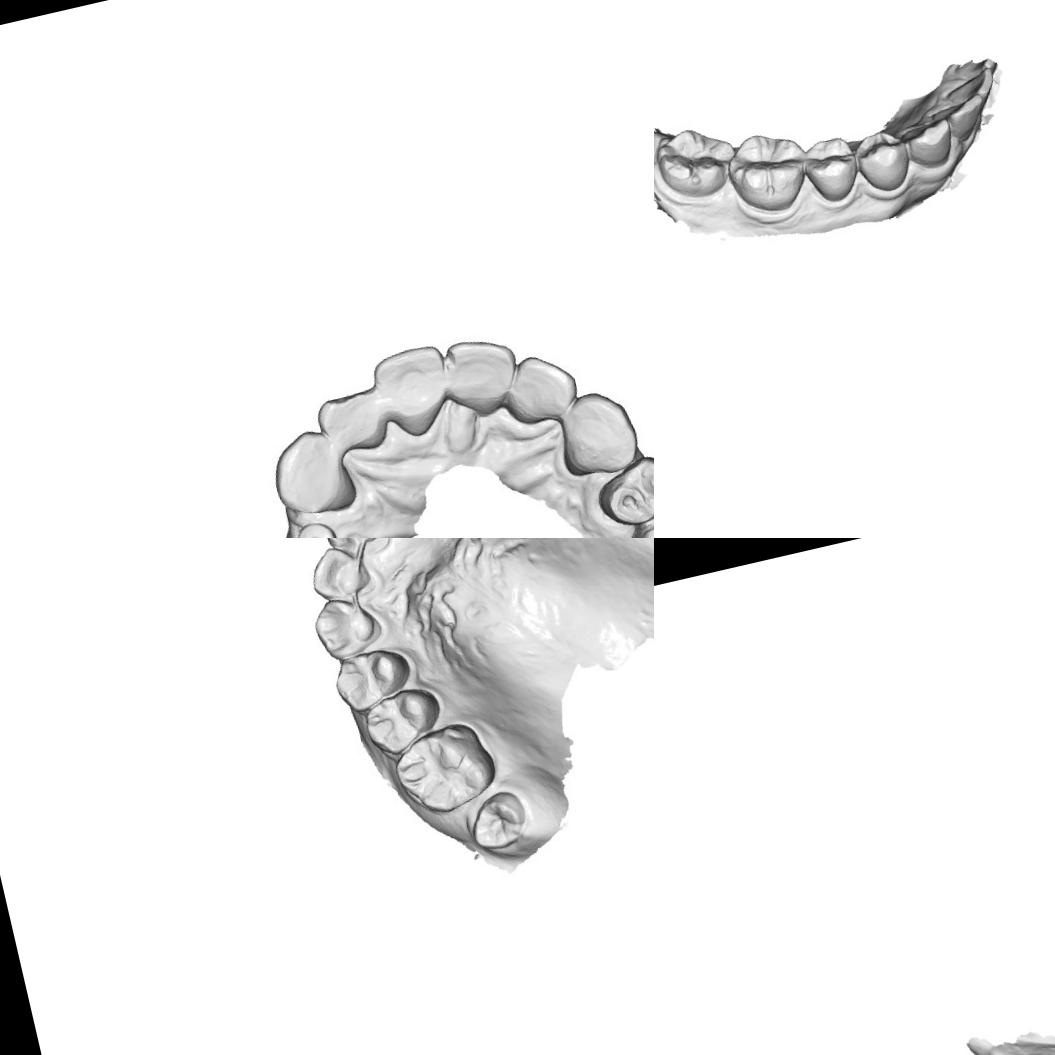canine: (261, 420, 361, 526), (553, 386, 645, 483), (312, 594, 386, 663), (895, 111, 959, 174)
implant: (290, 514, 342, 538)
incisor: (369, 340, 456, 440), (438, 331, 526, 423), (312, 379, 396, 464), (501, 348, 580, 431), (304, 542, 372, 602), (940, 90, 992, 146), (942, 65, 1000, 110), (317, 538, 393, 554)
molar: (386, 718, 500, 822), (720, 123, 815, 222), (654, 118, 745, 208)
premolar: (331, 636, 417, 718), (360, 684, 446, 762), (588, 448, 654, 536), (849, 124, 918, 199), (798, 133, 866, 208)
